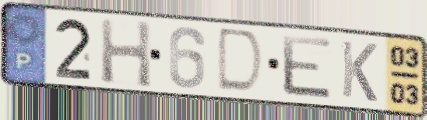2: (53, 17, 93, 82)
6: (166, 25, 207, 90)
D: (214, 26, 268, 97)
E: (279, 32, 335, 102)
H: (97, 17, 154, 91)
K: (339, 38, 380, 105)
